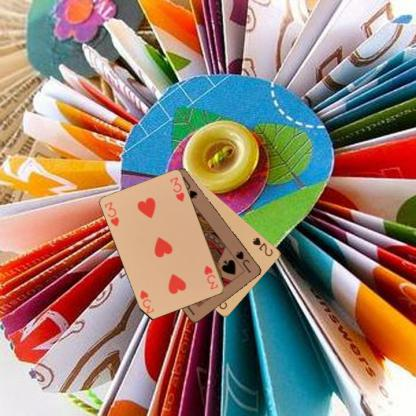2s: (250, 235, 275, 258)
3h: (102, 199, 120, 228), (202, 263, 220, 291)
Js: (233, 249, 252, 274)
